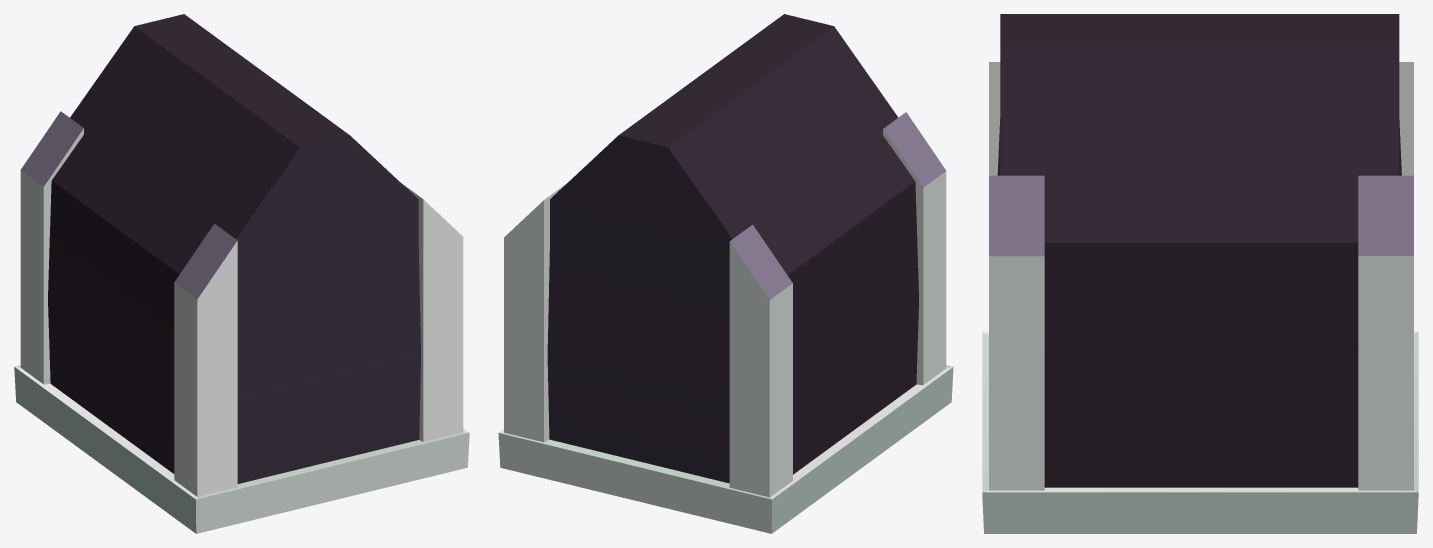
File: House02_Black_White.glb
The picture shows the model from 3 angles, left to right: view 1: azimuth 30°, elevation 25°; view 2: azimuth 150°, elevation 25°; view 3: azimuth 270°, elevation 25°; orthographic projection. The views are drawn at different scales.
Parts seen in each view (by area): view 1: House02_Black_White; view 2: House02_Black_White; view 3: House02_Black_White.
Boxes of the visible parts, x1,y1,x2,y2 form: House02_Black_White: (14, 14, 469, 533); House02_Black_White: (498, 14, 953, 533); House02_Black_White: (982, 14, 1418, 533).
Bounding box in the file's own units: 2.04 × 2.52 × 2.34.
Materials: 1 (1 with a texture image).
